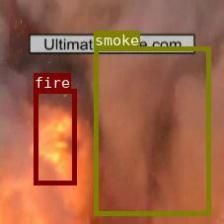fire: (33, 88, 75, 184)
smoke: (93, 46, 209, 215)
